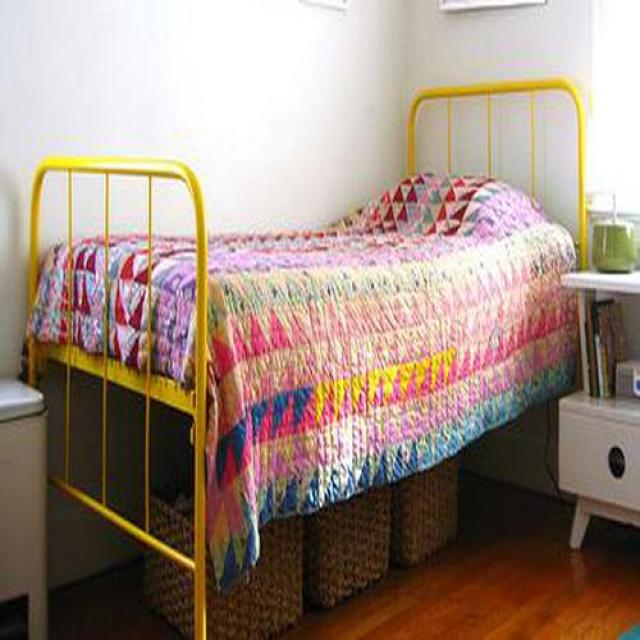bed: (23, 78, 586, 640)
